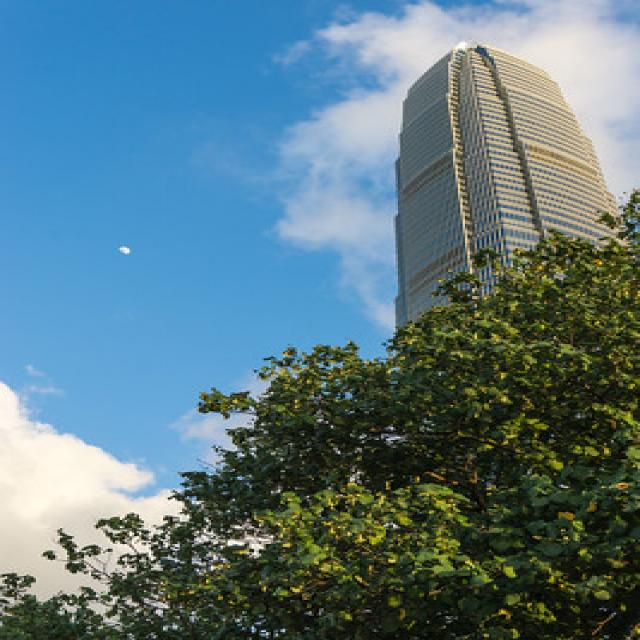Normal_building: (388, 33, 636, 394)
